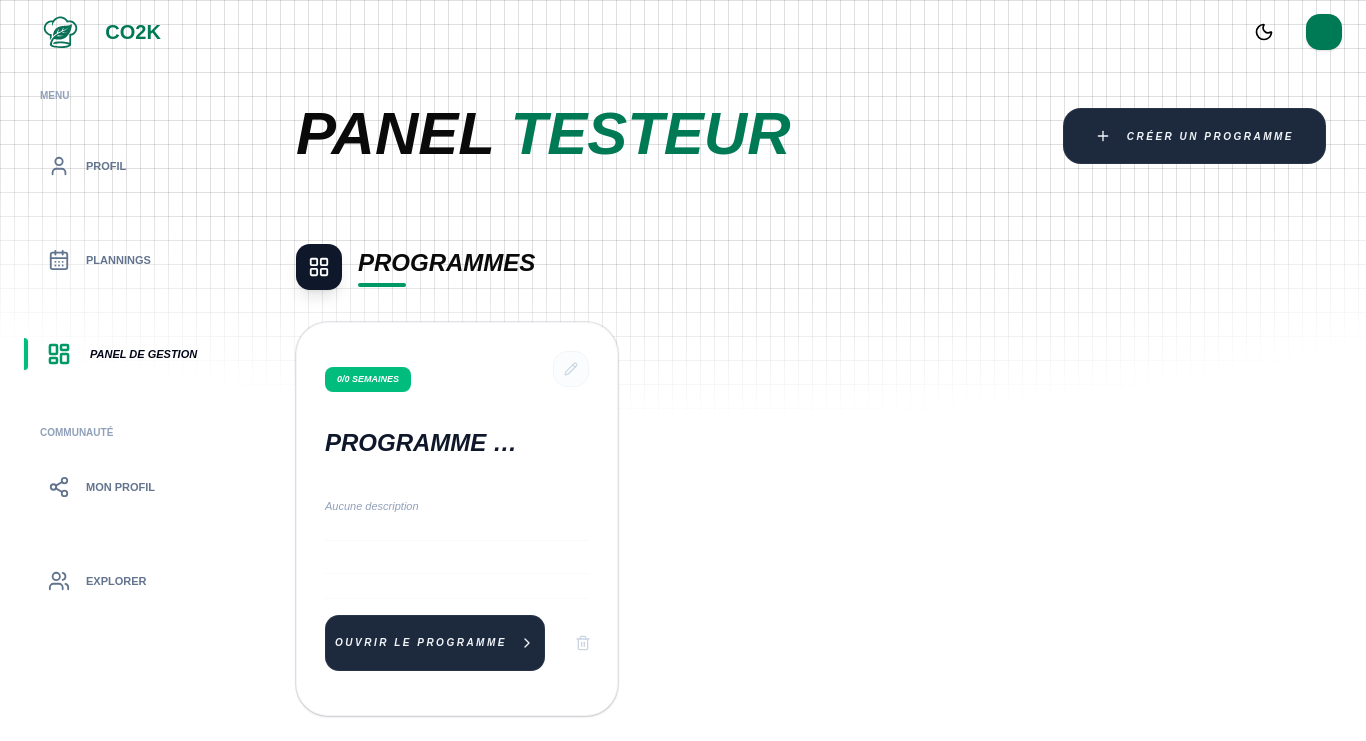
Test: Test Page Mon Compte › Supprime un post apres confirmation dans le toast
Click the button "Mon Profil". click: (128, 487)
box: [24, 448, 232, 526]
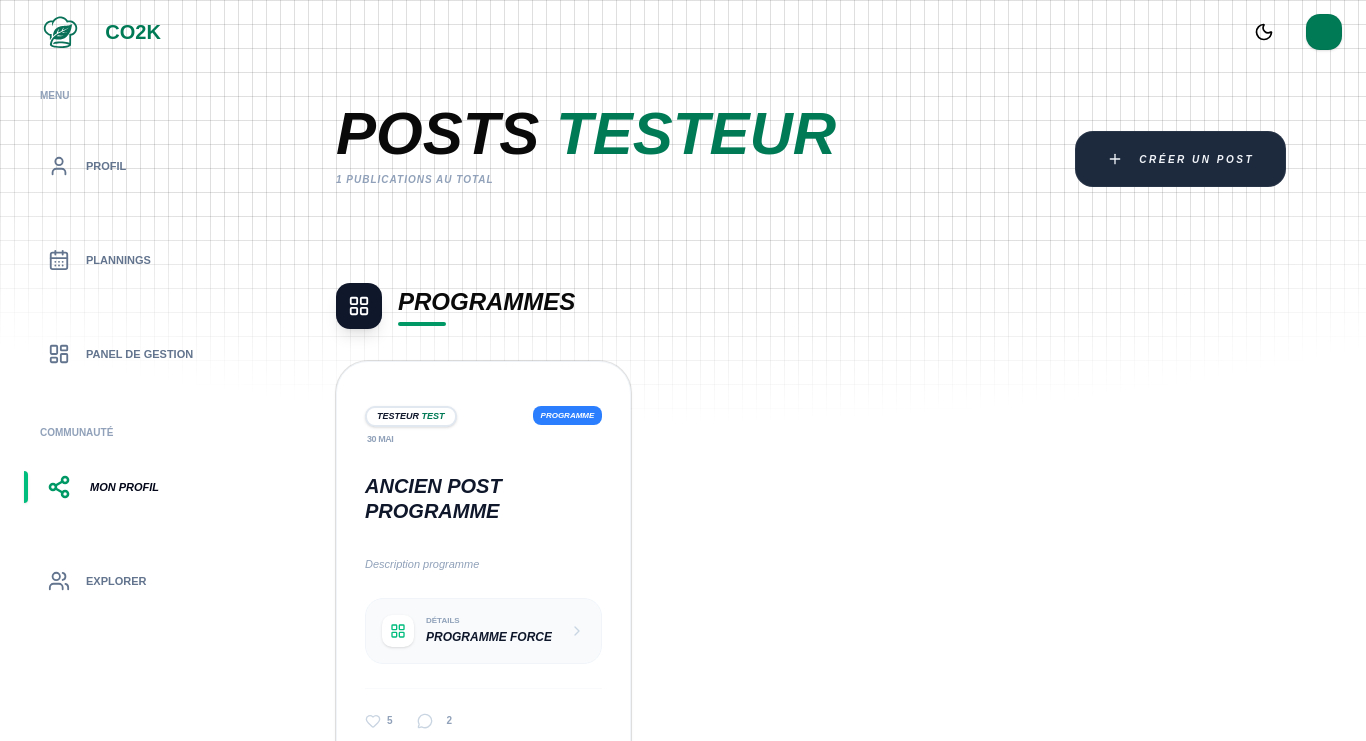
Scroll
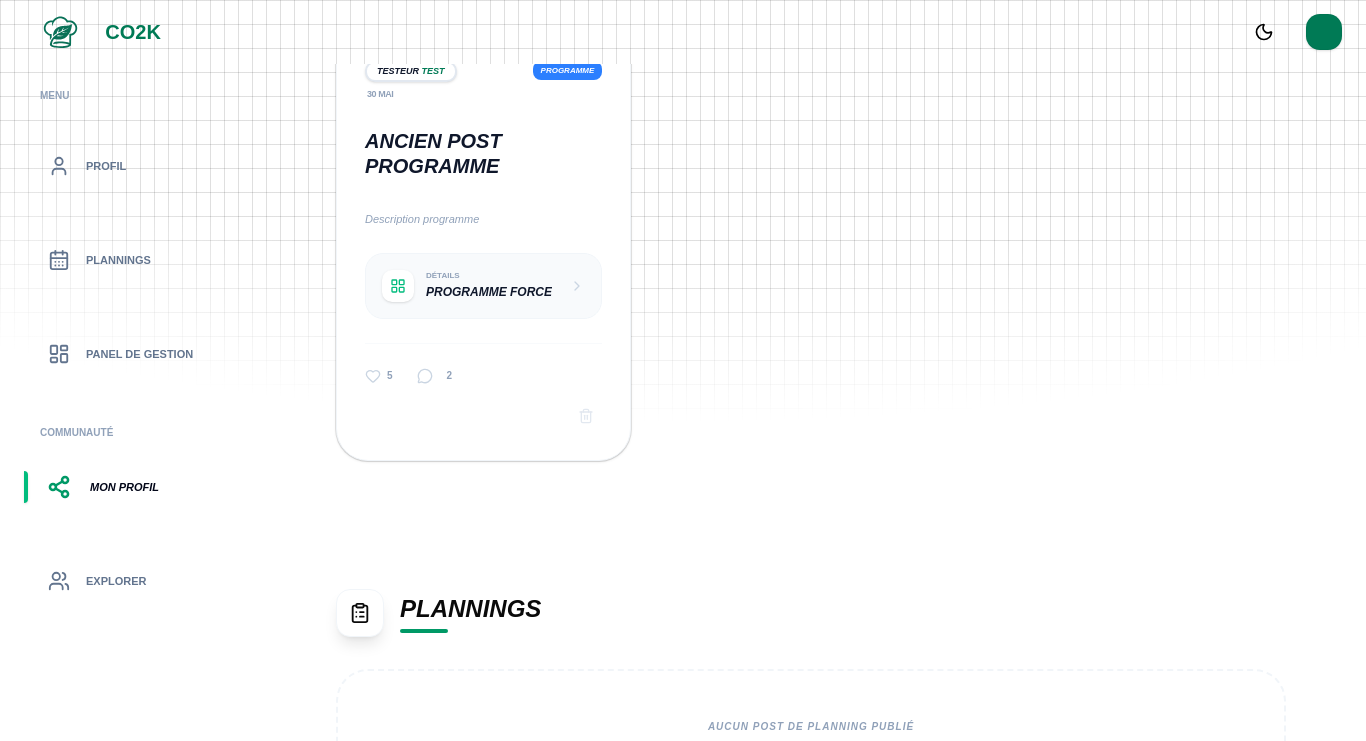
Click the icon with class "lucide-trash2". click: (586, 416)
box: [578, 408, 594, 424]
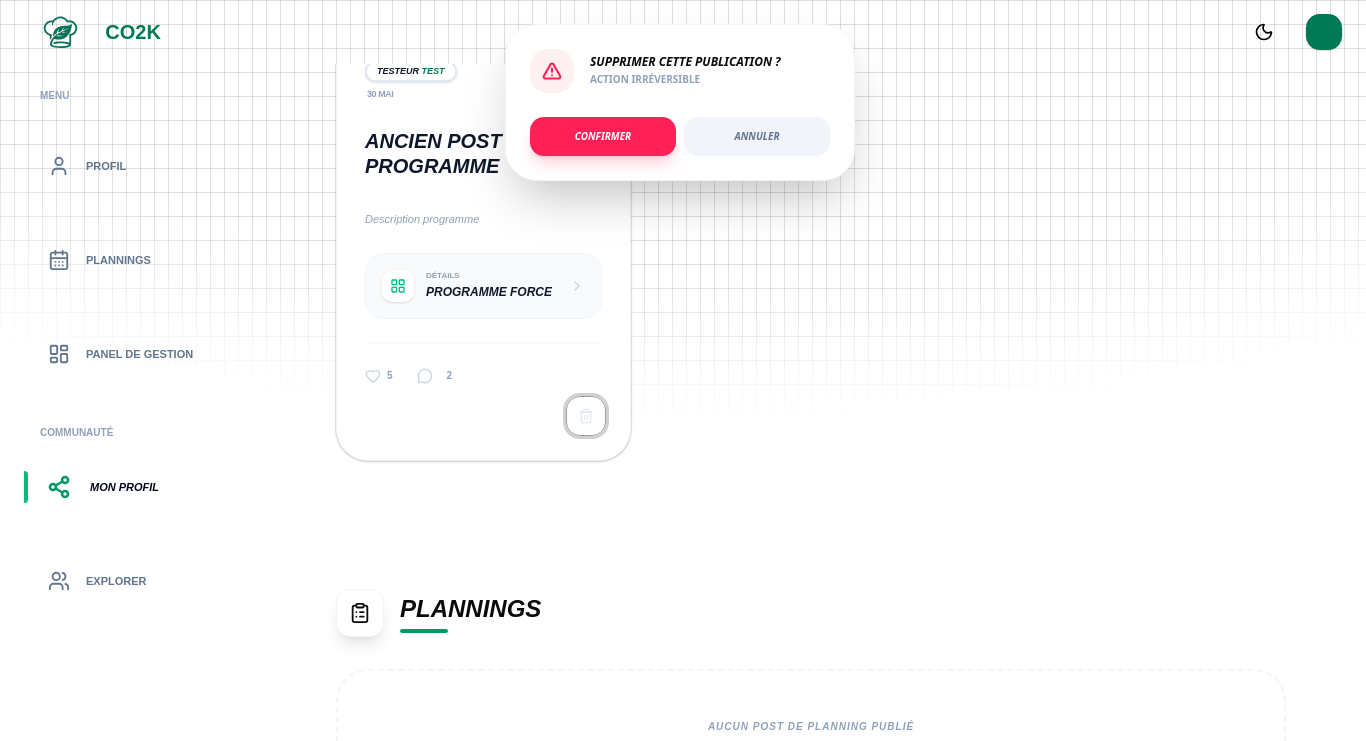
Now the button "Confirmer" is shown
Click the button "Confirmer". click: (603, 137)
box: [530, 117, 676, 156]
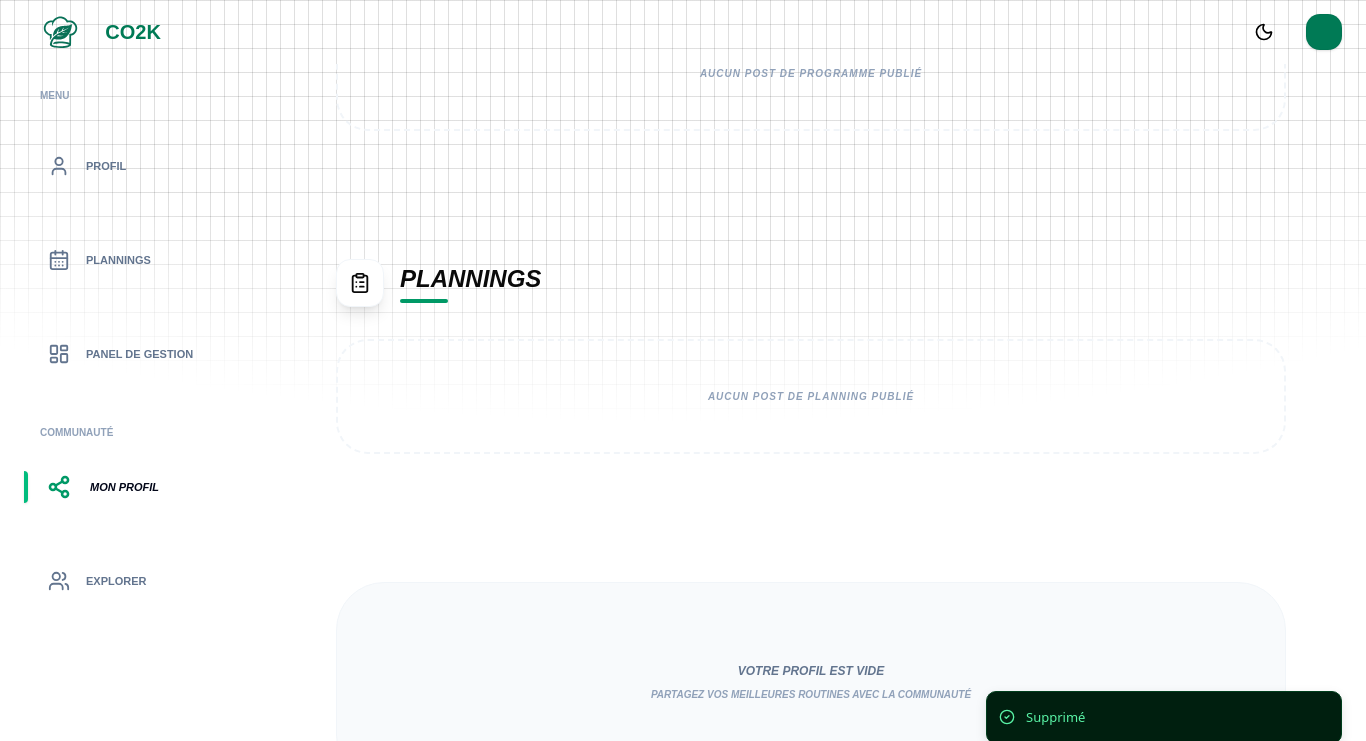
Now the text "Supprimé" is shown, box [1026, 708, 1085, 727]
Now the text "Votre profil est vide" is shown, box [738, 664, 884, 678]
